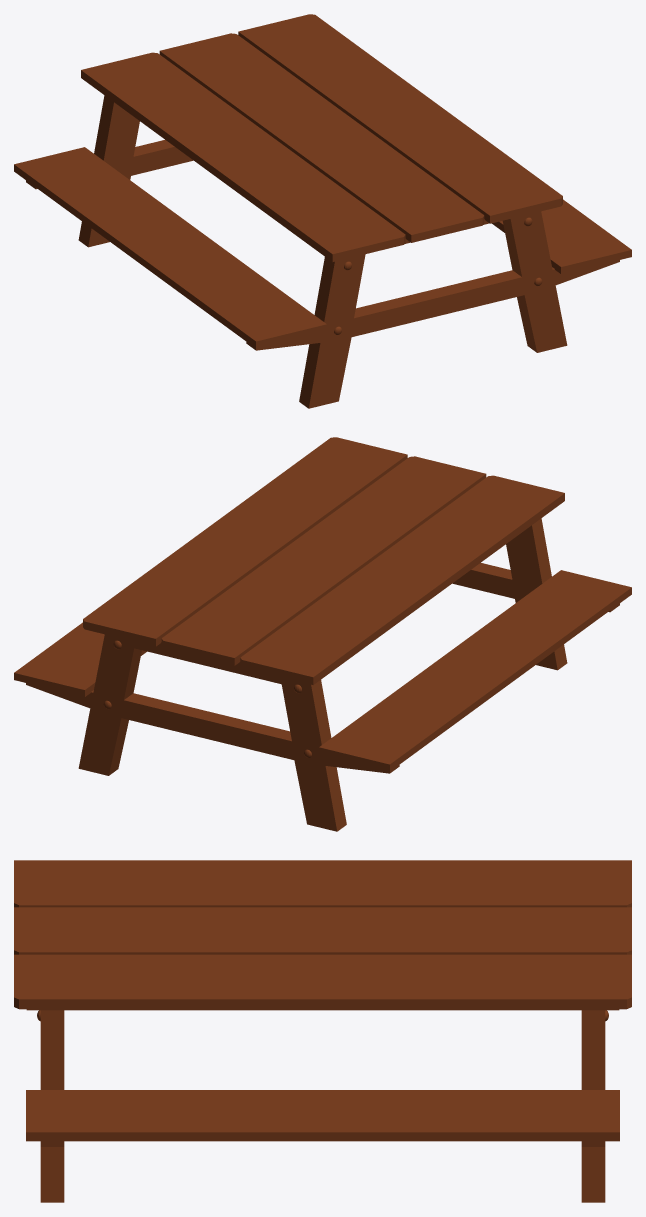
The model's file is Park.glb.
The picture shows the model from 3 angles, top to bottom: view 1: azimuth 30°, elevation 25°; view 2: azimuth 150°, elevation 25°; view 3: azimuth 270°, elevation 25°; orthographic projection. The views are drawn at different scales.
Visible parts, largest first — view 1: Panca picnic.001_lowpolytex_0; view 2: Panca picnic.001_lowpolytex_0; view 3: Panca picnic.001_lowpolytex_0.
Part boxes in pixels (left/top/right/bottom): Panca picnic.001_lowpolytex_0: left=14, top=14, right=631, bottom=408; Panca picnic.001_lowpolytex_0: left=14, top=437, right=631, bottom=831; Panca picnic.001_lowpolytex_0: left=14, top=860, right=631, bottom=1202.
Bounding box in the file's own units: 2.78 × 1.12 × 3.22.
1 material, 1 textured.
